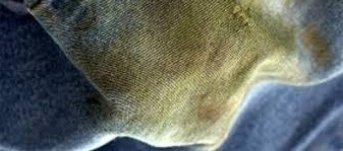earth: (109, 0, 280, 135)
